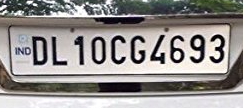0: (89, 36, 107, 65)
1: (72, 34, 88, 67)
3: (208, 33, 226, 65)
4: (149, 34, 168, 65)
6: (169, 34, 185, 64)
9: (188, 34, 206, 64)
C: (110, 34, 127, 66)
D: (30, 35, 50, 66)
G: (129, 34, 148, 66)
L: (50, 35, 69, 67)
